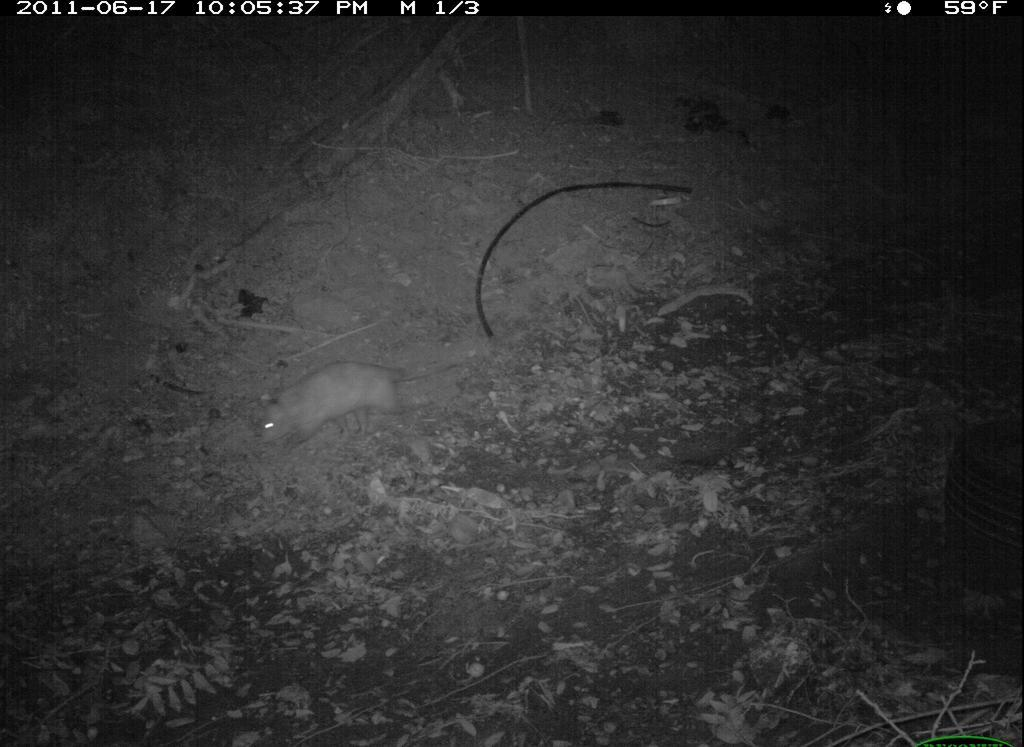opossum: (241, 350, 446, 463)
